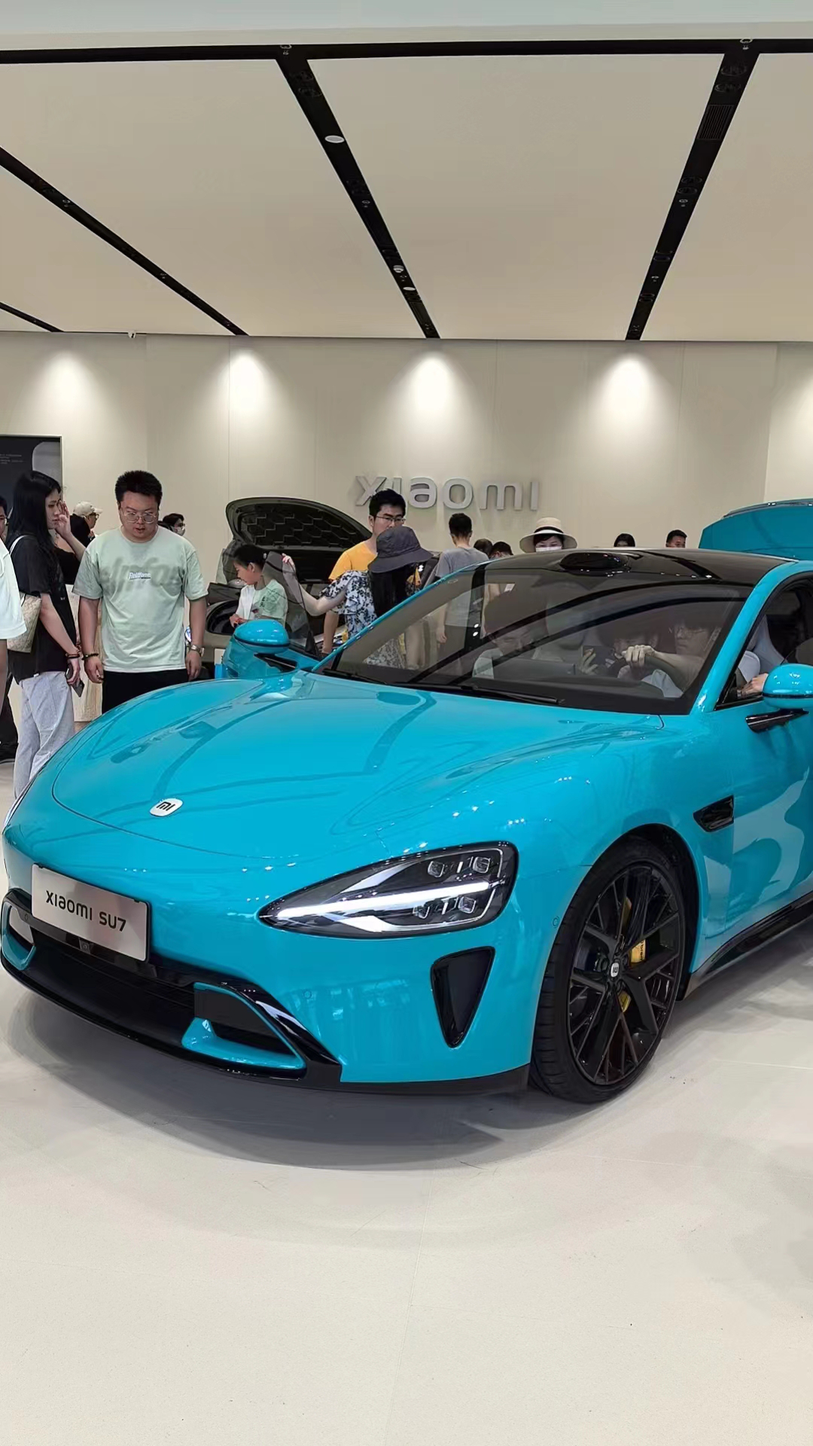su7: (20, 549, 813, 1115)
